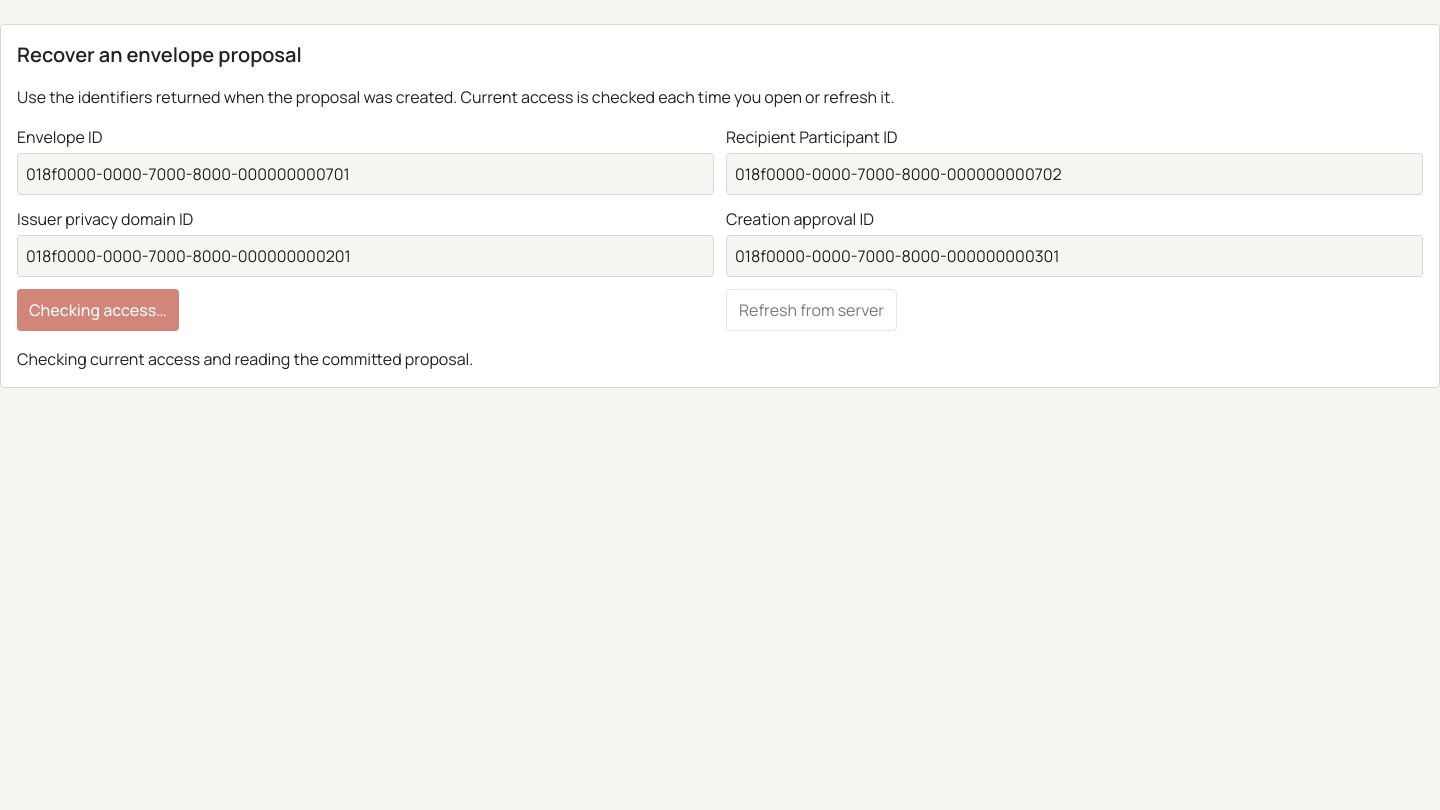
ignores a late old success after lookup IDs changed and newer recovery succeeded
Replace the text in the field labelled "Envelope ID" with "018f0000-0000-7000-8000-000000000799": [366, 174] box [17, 153, 714, 195]
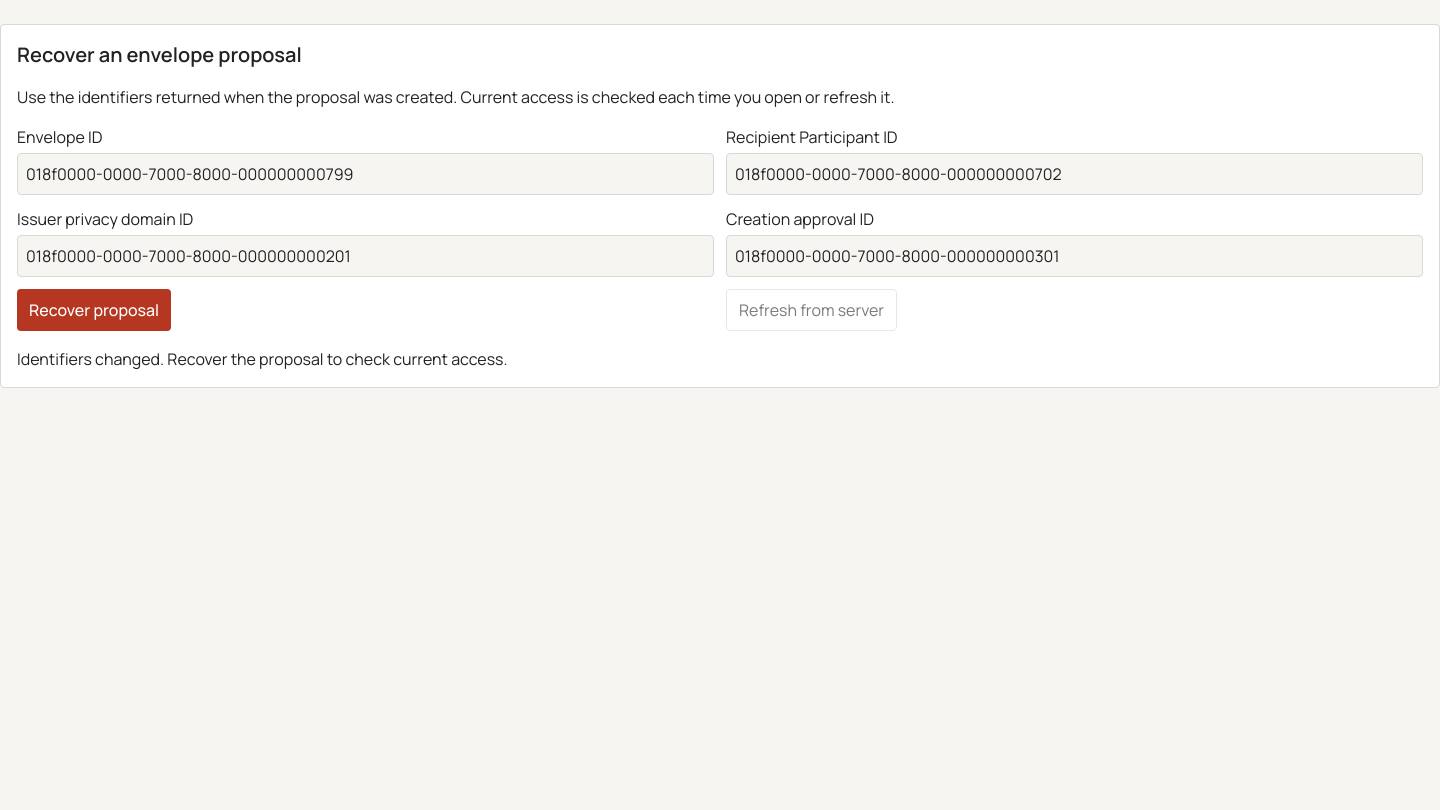
Click the button "Recover proposal": [94, 310] box [17, 289, 171, 331]
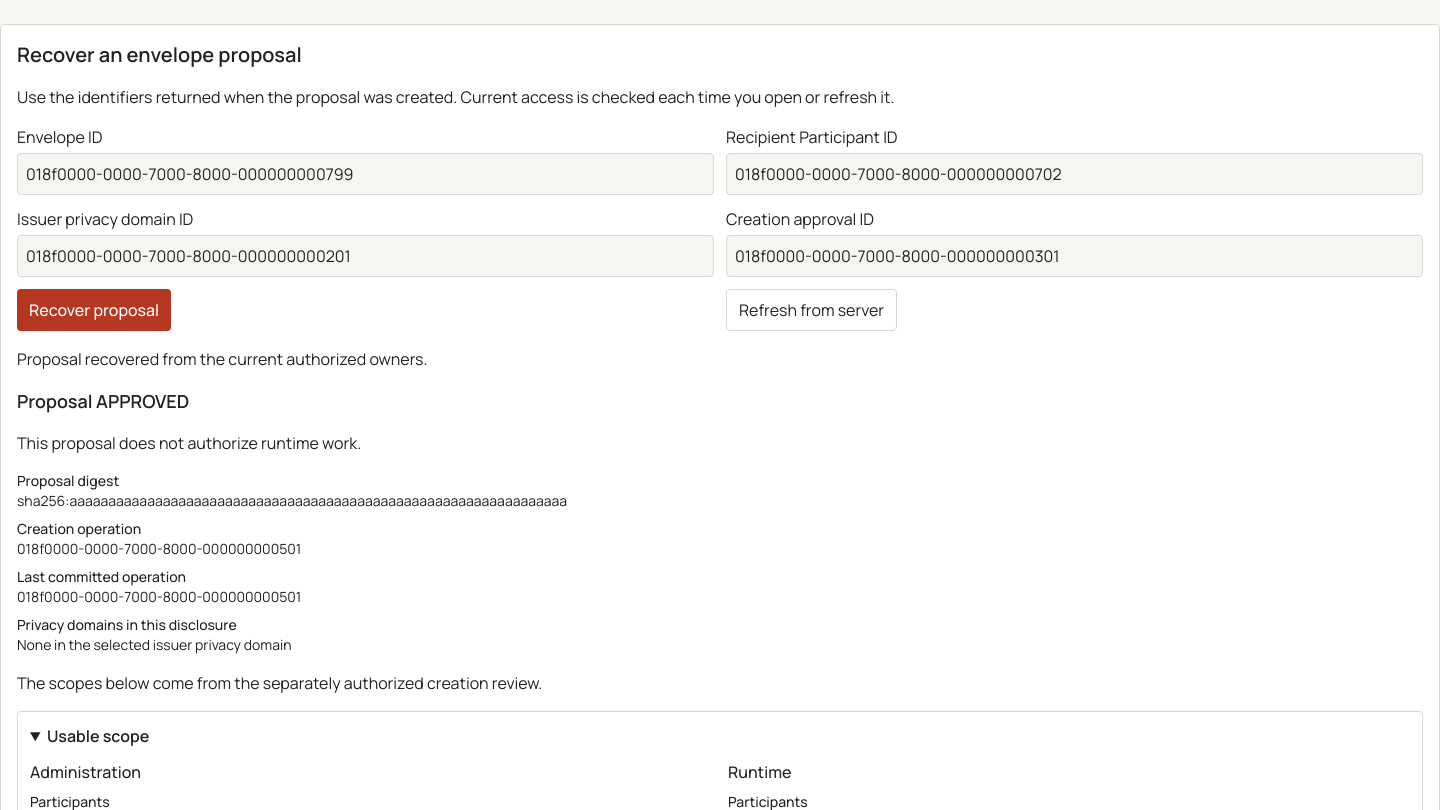
Now the heading "Proposal APPROVED" is shown, box [17, 389, 189, 413]
